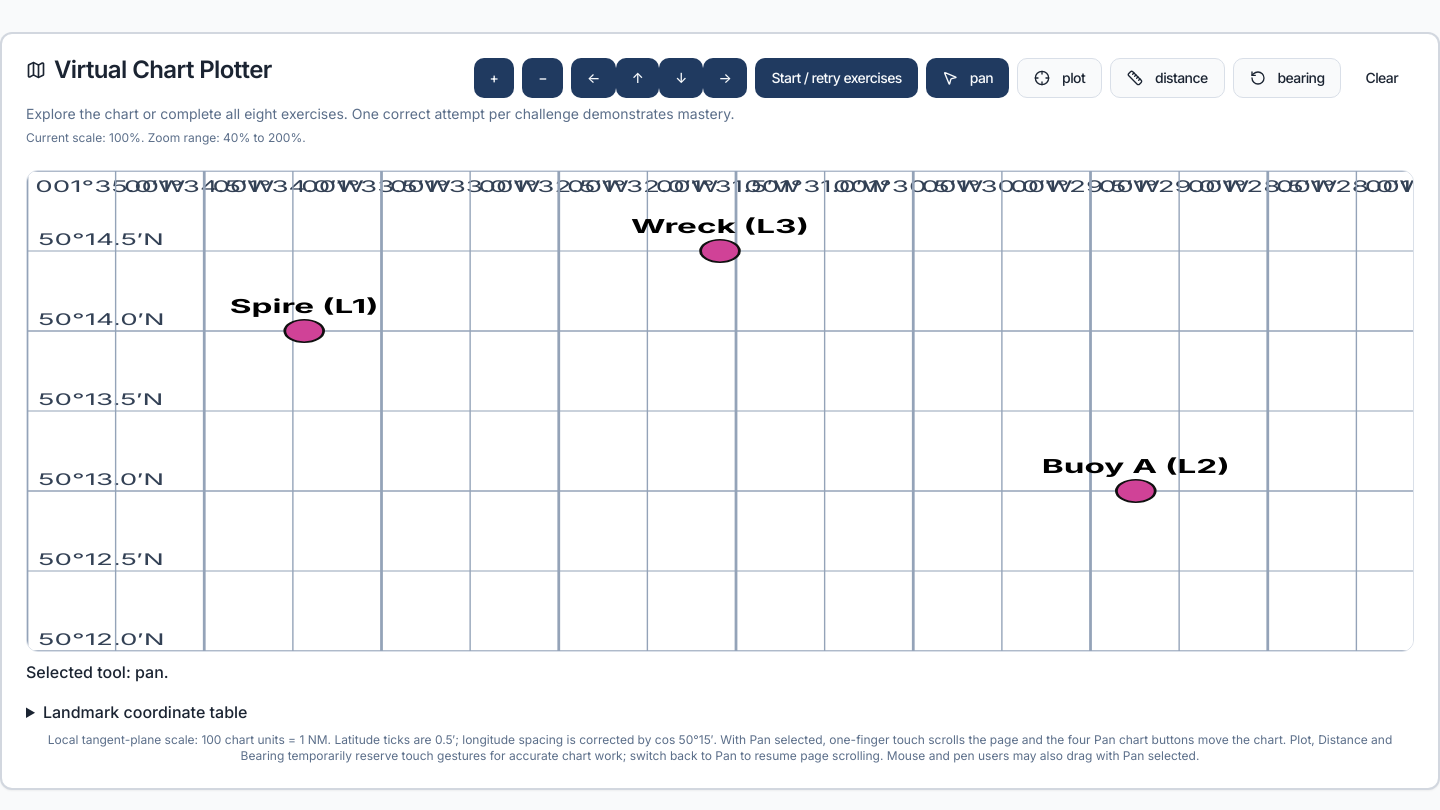
VirtualChartPlotter access paths › names zoom controls and exposes the current scale and limits
Click the button named "Zoom in" at (494, 78), box [474, 58, 514, 98]
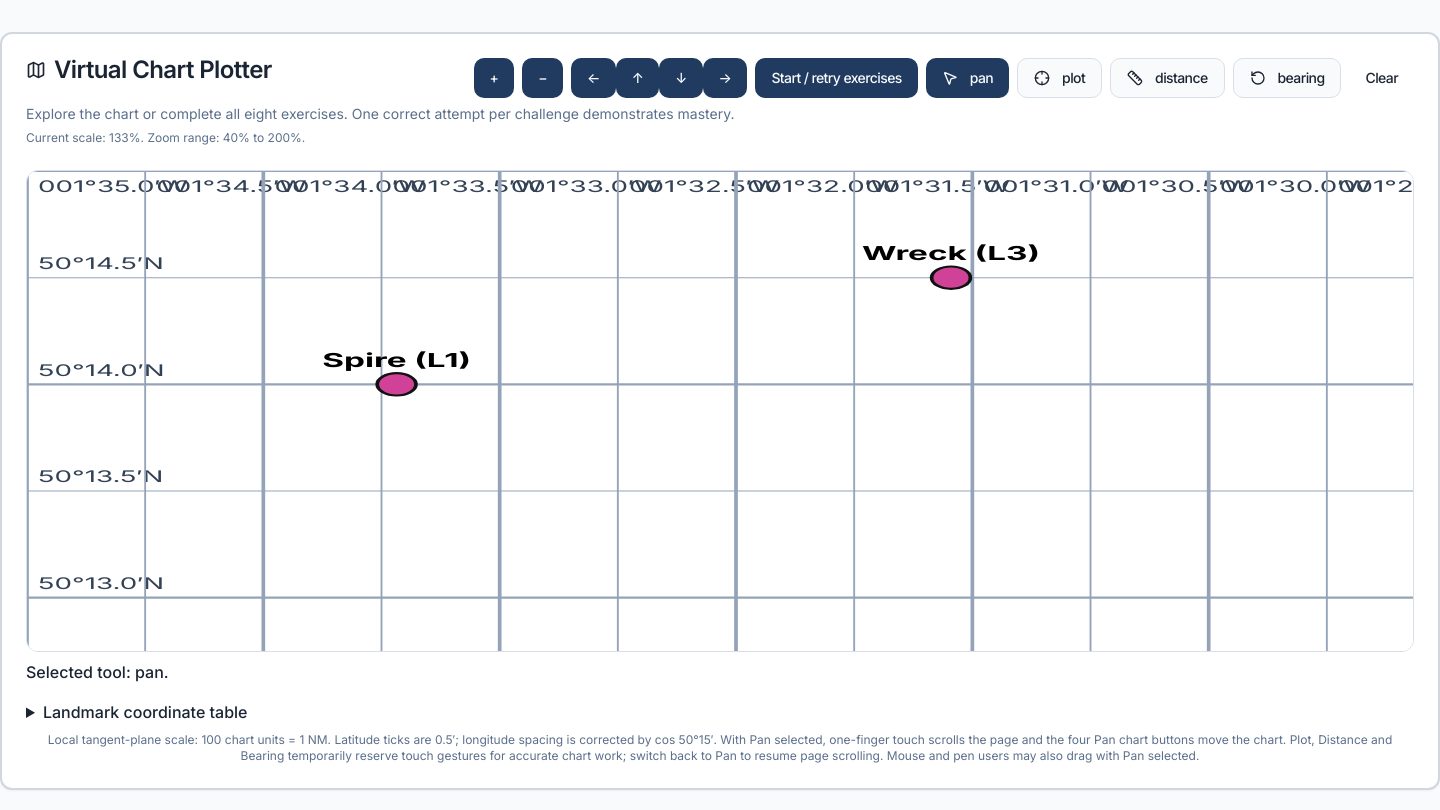
Click the button named "Zoom in" at (494, 78), box [474, 58, 514, 98]
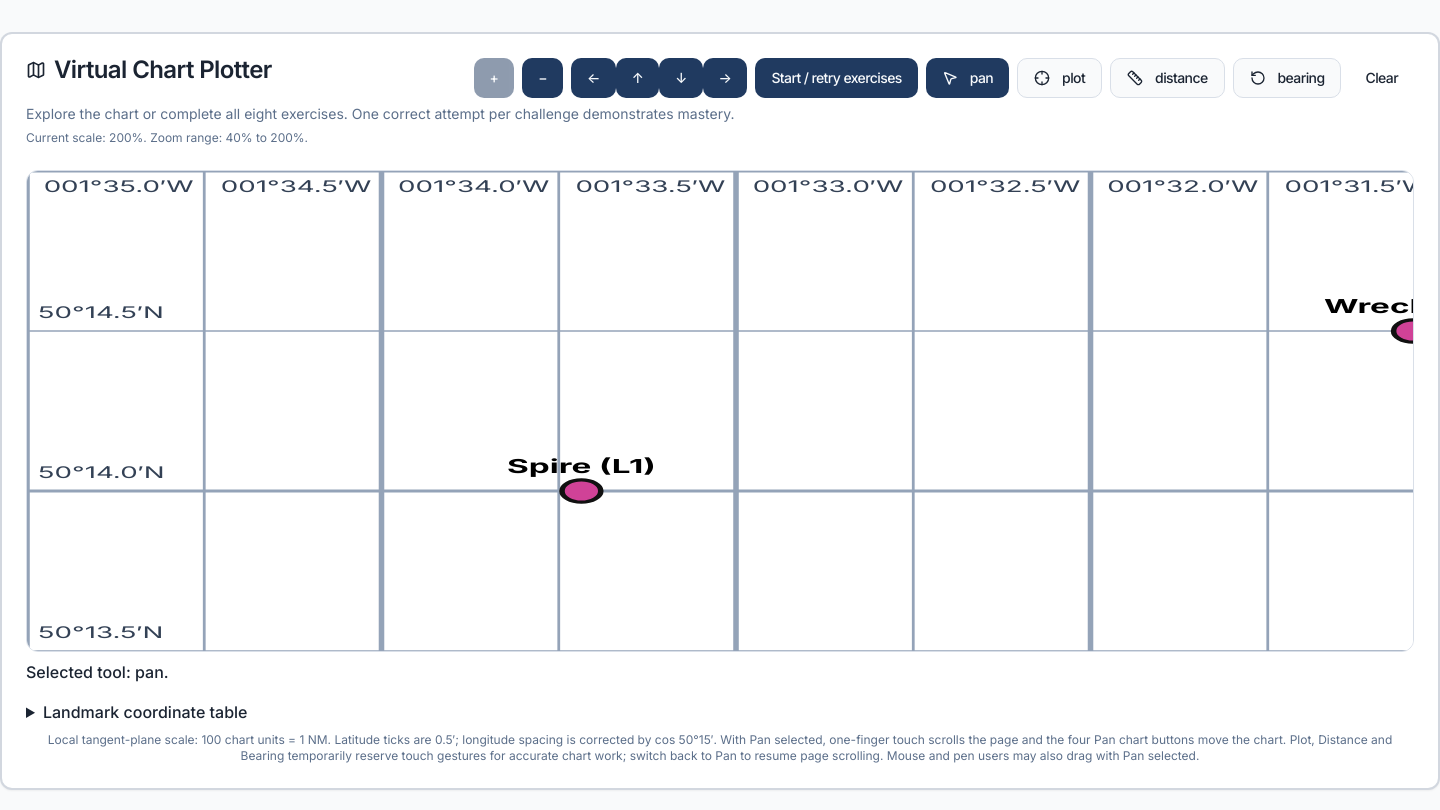
Check: the button named "Zoom in" is disabled, box [474, 58, 514, 98]
Check: the text "Current scale: 200%. Zoom range: 40% to 200%." is shown, box [26, 130, 308, 145]
